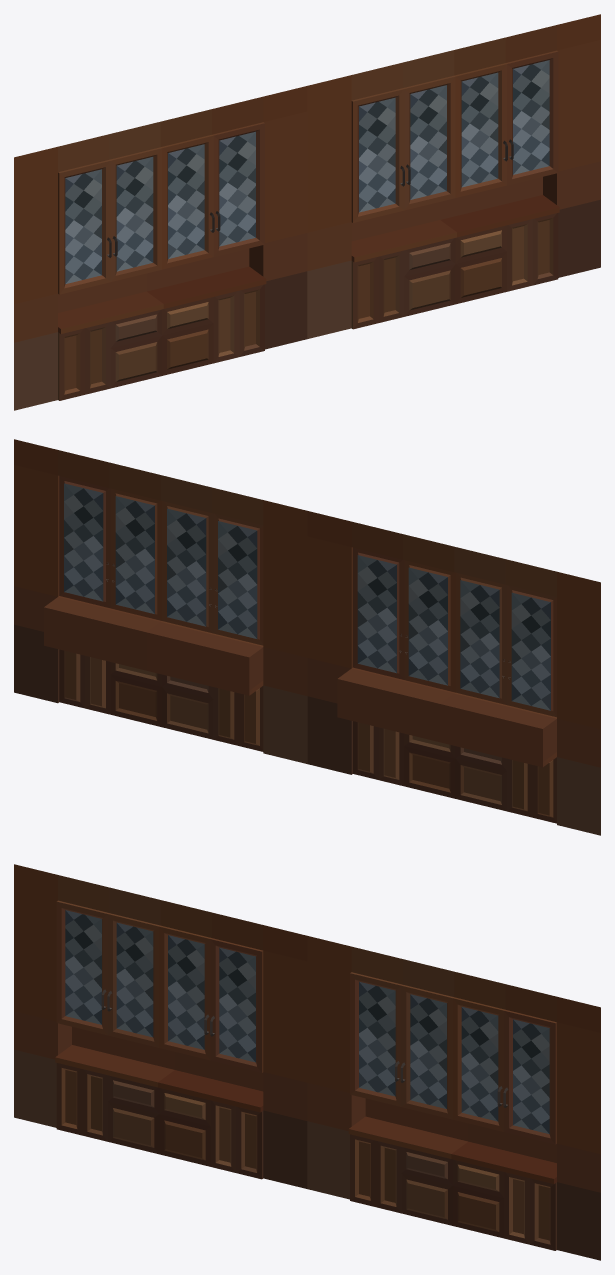
Rendered from Wall_HomeA-TypeC-6m.fbx.
3 renders of one model, top to bottom at view 1: azimuth 30°, elevation 25°; view 2: azimuth 150°, elevation 25°; view 3: azimuth 330°, elevation 25°, orthographic.
Parts seen in each view (by area): view 1: Wall_HomeA-TypeC-6m; view 2: Wall_HomeA-TypeC-6m; view 3: Wall_HomeA-TypeC-6m.
Part boxes in pixels (box(x1,y1,x2,y2)): Wall_HomeA-TypeC-6m: box(14, 14, 600, 410); Wall_HomeA-TypeC-6m: box(14, 439, 600, 835); Wall_HomeA-TypeC-6m: box(14, 864, 600, 1260).
Size of the model in its own units: 600 by 247 by 34.08.
